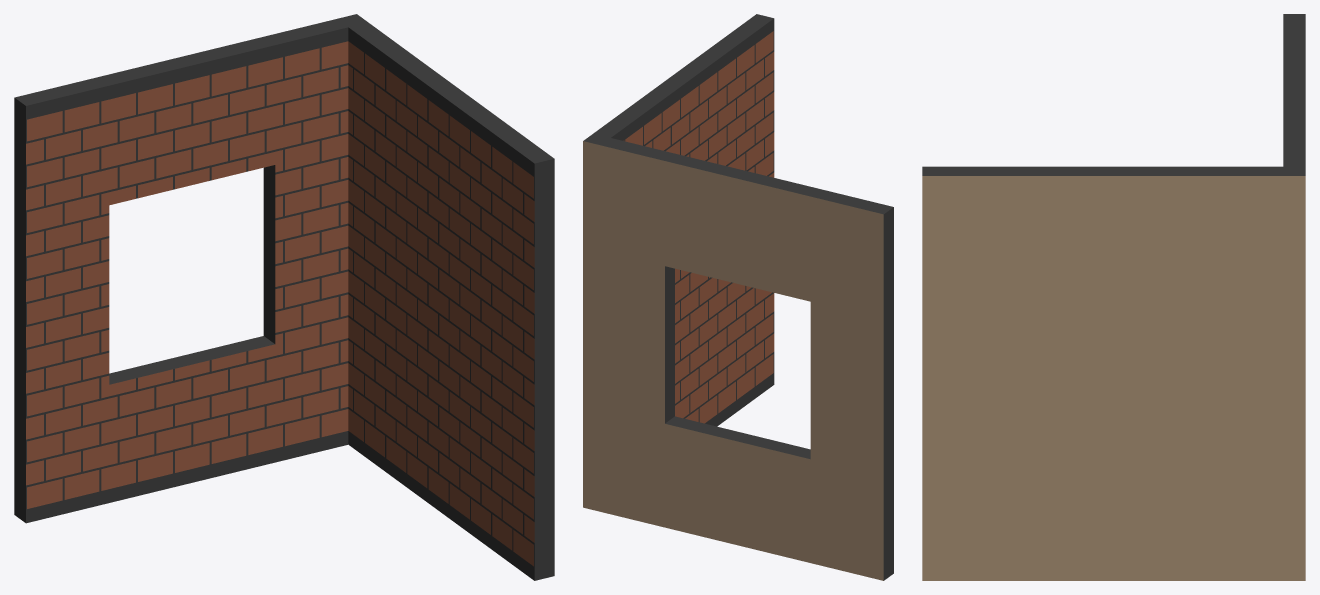
Rendered from Wall2_C10_10.fbx.
3 views of the same model, side by side, from view 1: azimuth 30°, elevation 25°; view 2: azimuth 150°, elevation 25°; view 3: azimuth 270°, elevation 25° (orthographic). The views are drawn at different scales.
Visible parts, largest first — view 1: Wall2_C10_10; view 2: Wall2_C10_10; view 3: Wall2_C10_10.
Boxes of the visible parts, x1,y1,x2,y2 form: Wall2_C10_10: (14, 14, 554, 580); Wall2_C10_10: (583, 14, 893, 580); Wall2_C10_10: (922, 14, 1305, 580).
Bounding box in the file's own units: 258 × 300 × 258.
